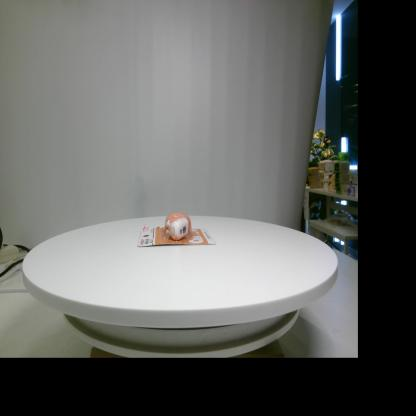Stationery: (137, 212, 216, 247)
